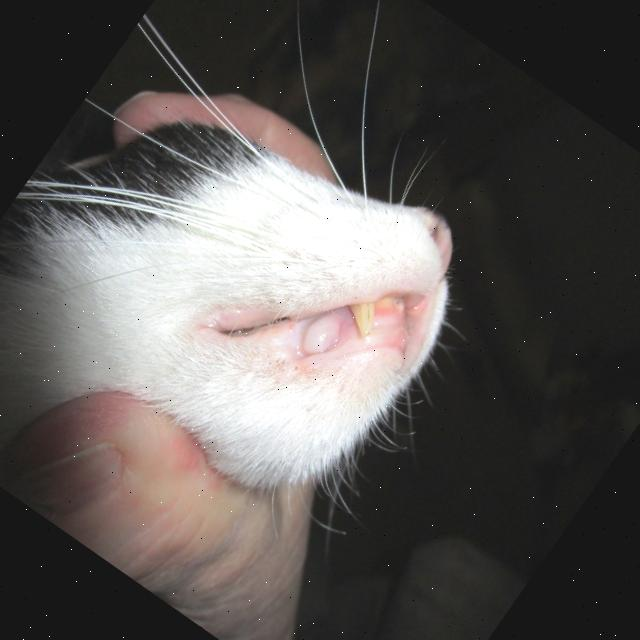cat-lump-and-bump: (288, 301, 352, 368)
